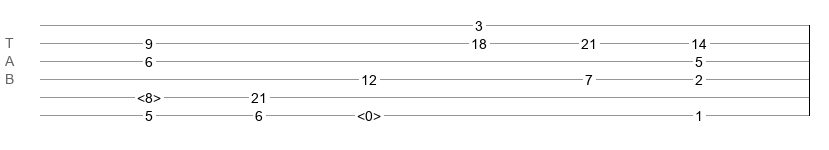1: (695, 108, 703, 118)
12: (361, 72, 377, 82)
14: (691, 36, 707, 46)
18: (471, 36, 487, 46)
2: (695, 72, 703, 82)
21: (251, 90, 267, 100), (581, 36, 597, 46)
3: (475, 18, 483, 28)
5: (145, 108, 153, 118), (695, 54, 703, 64)
6: (145, 54, 153, 64), (255, 108, 263, 118)
7: (585, 72, 593, 82)
9: (145, 36, 153, 46)
harmonic: (137, 90, 161, 100), (357, 108, 381, 118)
